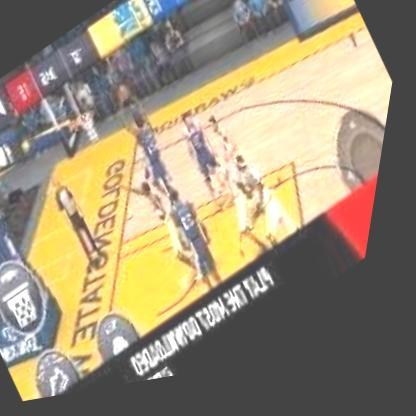basketball: (114, 83, 141, 111)
